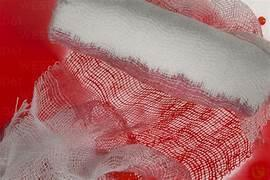cotton: (0, 0, 269, 179), (52, 0, 269, 110)
